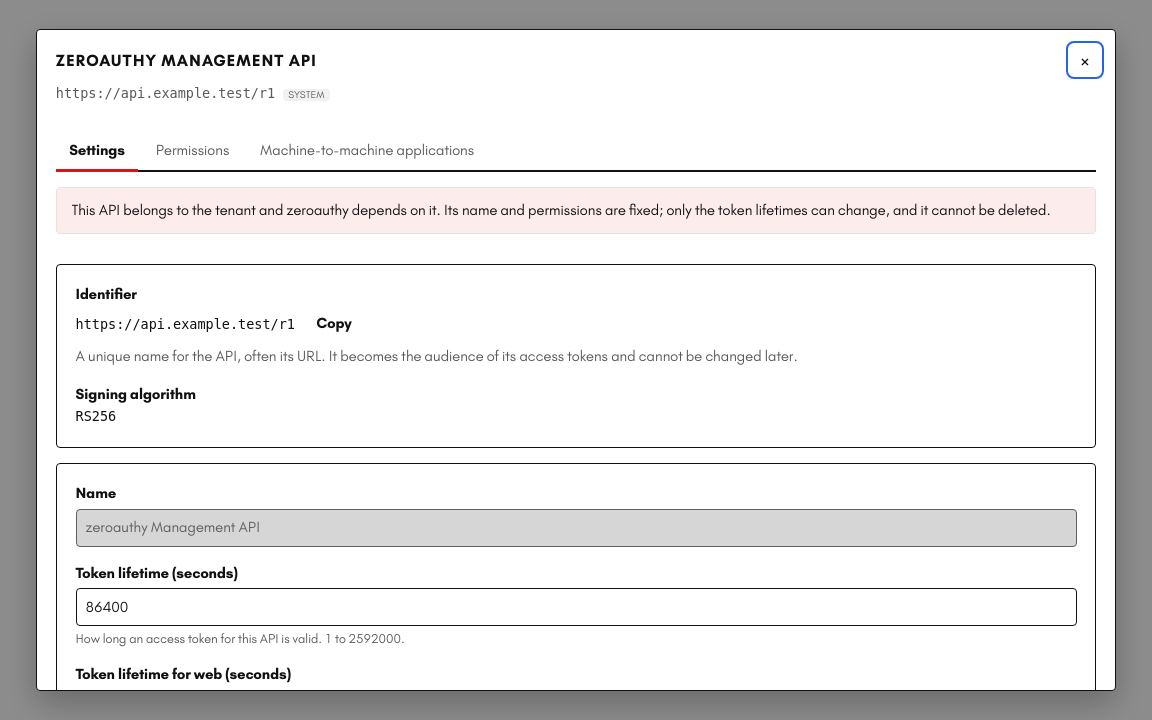
Test case: API detail › a system API › is marked, read-only except the lifetimes, and has no danger zone
The width and height of the screenshot is (1152, 720).
expect the text with test id "system-badge" reads "System": met, box 288,88 -> 325,100
expect the field with id "api-name" is disabled: met, box 76,508 -> 1076,546
Step 1. Press the mouse on the tab "Permissions" → (192, 151), box 142,131 -> 243,172
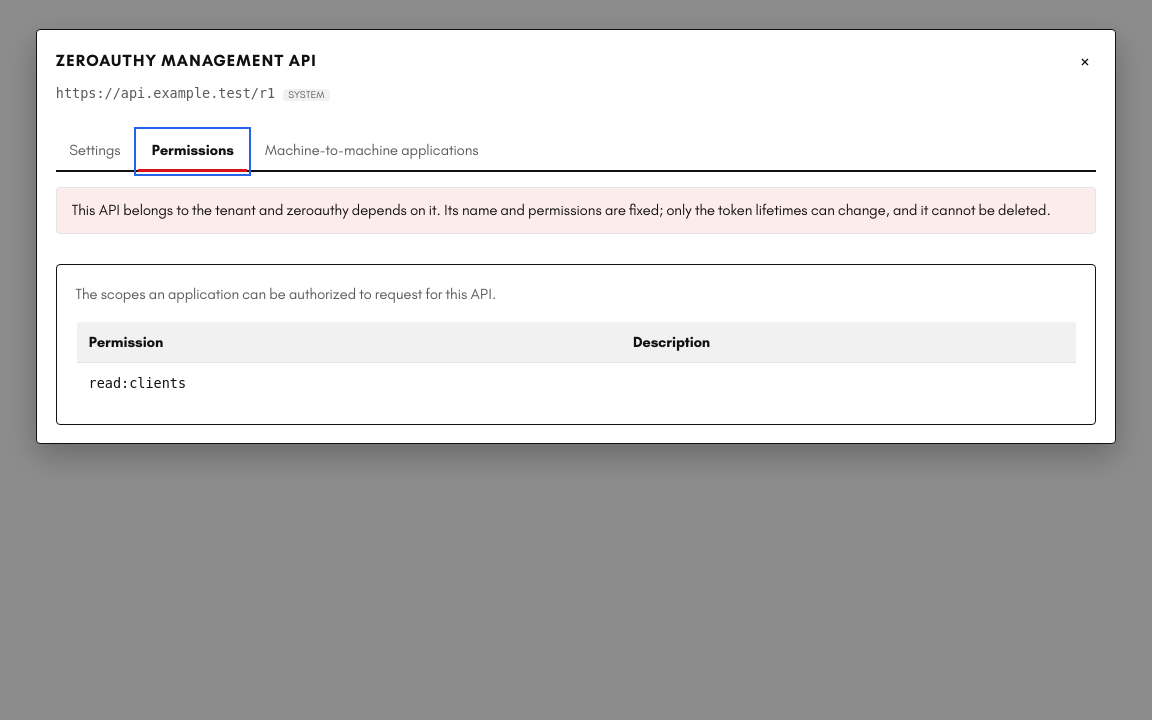
expect the text "read:clients" is shown: met, box 88,375 -> 186,391
